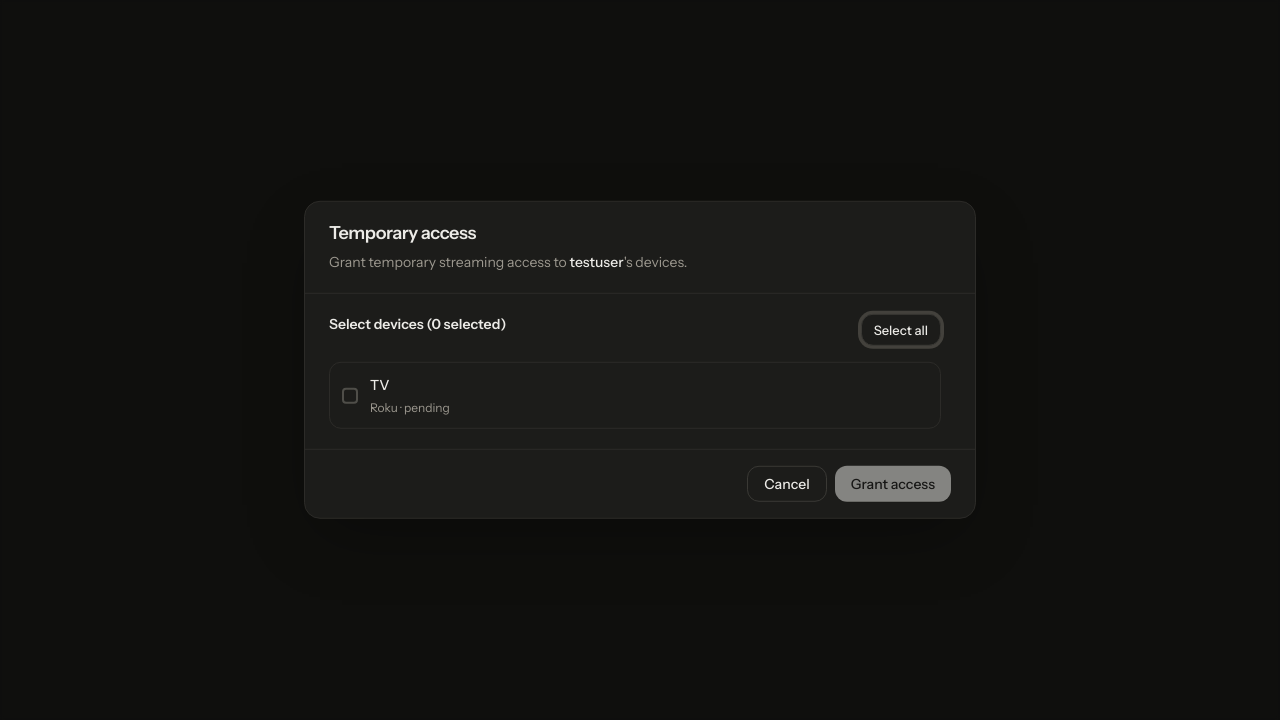
Test: TemporaryAccessModal › device selection › counts the selection
Expected: the heading "Select devices (0 selected)" is shown, [329,314,506,336]
Click the text "TV".
click(380, 385)  # box [370,376,389,394]
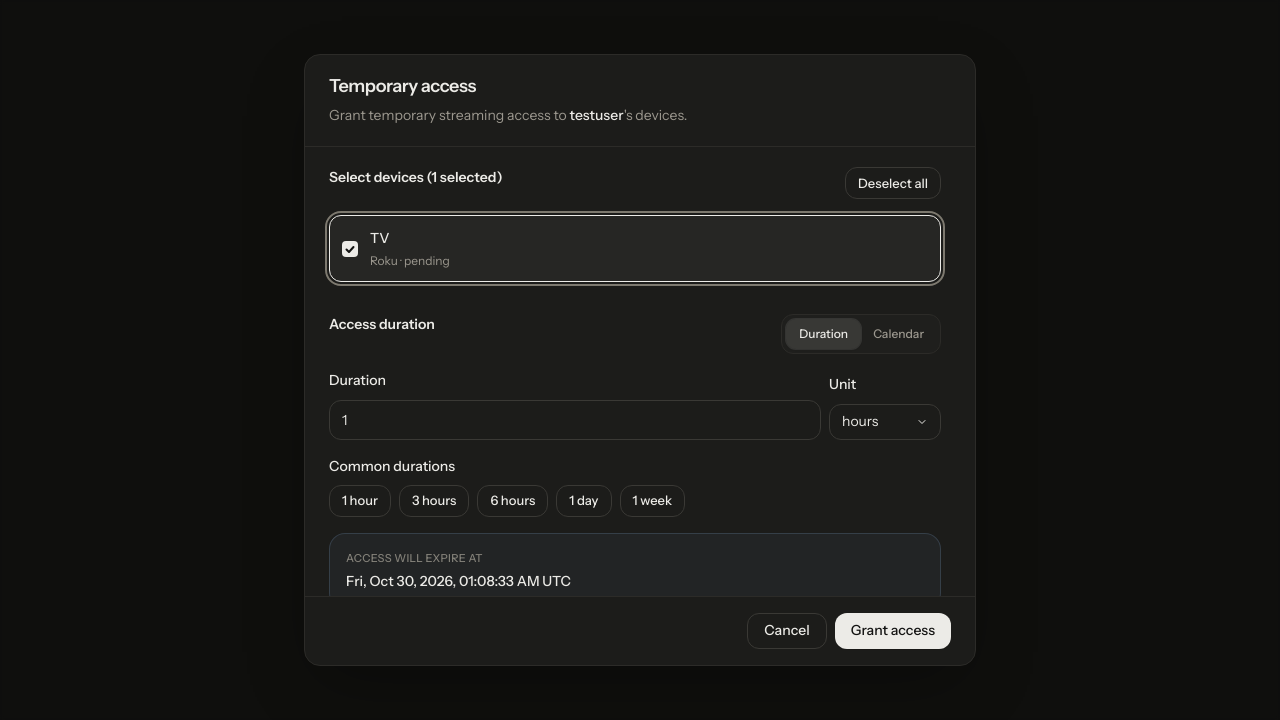
Expected: the heading "Select devices (1 selected)" is shown, [329,167,503,189]
